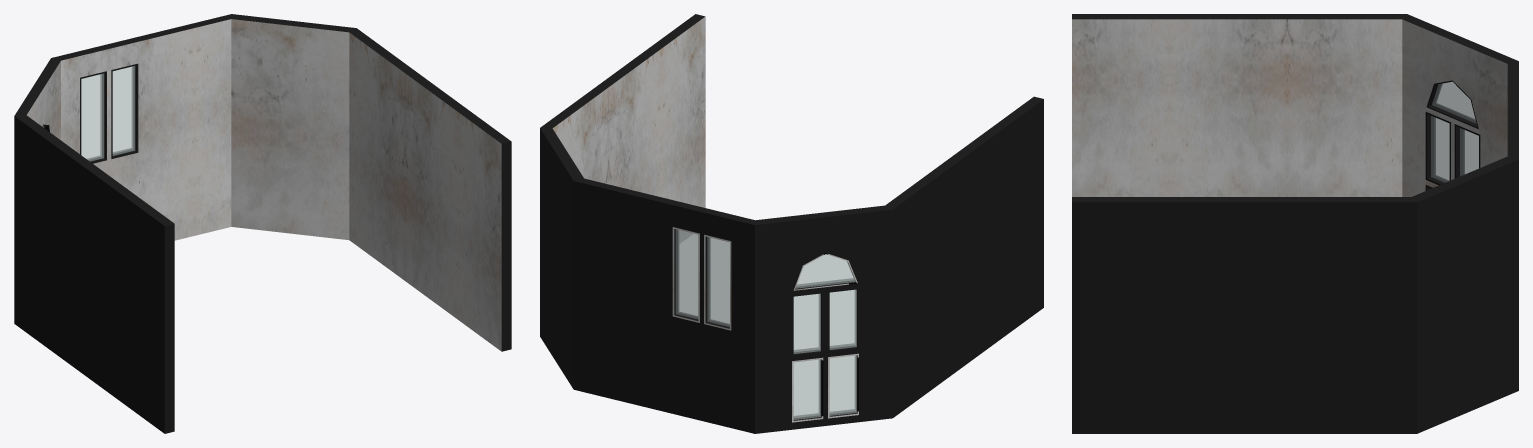
Rendered from b_duvar.obj.
The picture shows the model from 3 angles, left to right: view 1: azimuth 30°, elevation 25°; view 2: azimuth 150°, elevation 25°; view 3: azimuth 270°, elevation 25°; orthographic projection. The views are drawn at different scales.
Parts seen in each view (by area): view 1: Cube.149_m_yırtıkduvar, Cube.149_m_black, Cube.149_m_cam; view 2: Cube.149_m_black, Cube.149_m_yırtıkduvar, Cube.149_m_cam; view 3: Cube.149_m_black, Cube.149_m_yırtıkduvar, Cube.149_m_cam.
Boxes of the visible parts, bbox=[...] form: Cube.149_m_yırtıkduvar: bbox=[27, 19, 501, 351]; Cube.149_m_black: bbox=[14, 14, 511, 433]; Cube.149_m_cam: bbox=[43, 66, 135, 161]; Cube.149_m_black: bbox=[540, 14, 1043, 433]; Cube.149_m_yırtıkduvar: bbox=[552, 16, 858, 422]; Cube.149_m_cam: bbox=[675, 229, 856, 419]; Cube.149_m_black: bbox=[1072, 14, 1518, 433]; Cube.149_m_yırtıkduvar: bbox=[1072, 19, 1507, 196]; Cube.149_m_cam: bbox=[1431, 81, 1478, 182].
Bounding box in the file's own units: 68.08 × 38.99 × 68.21.
